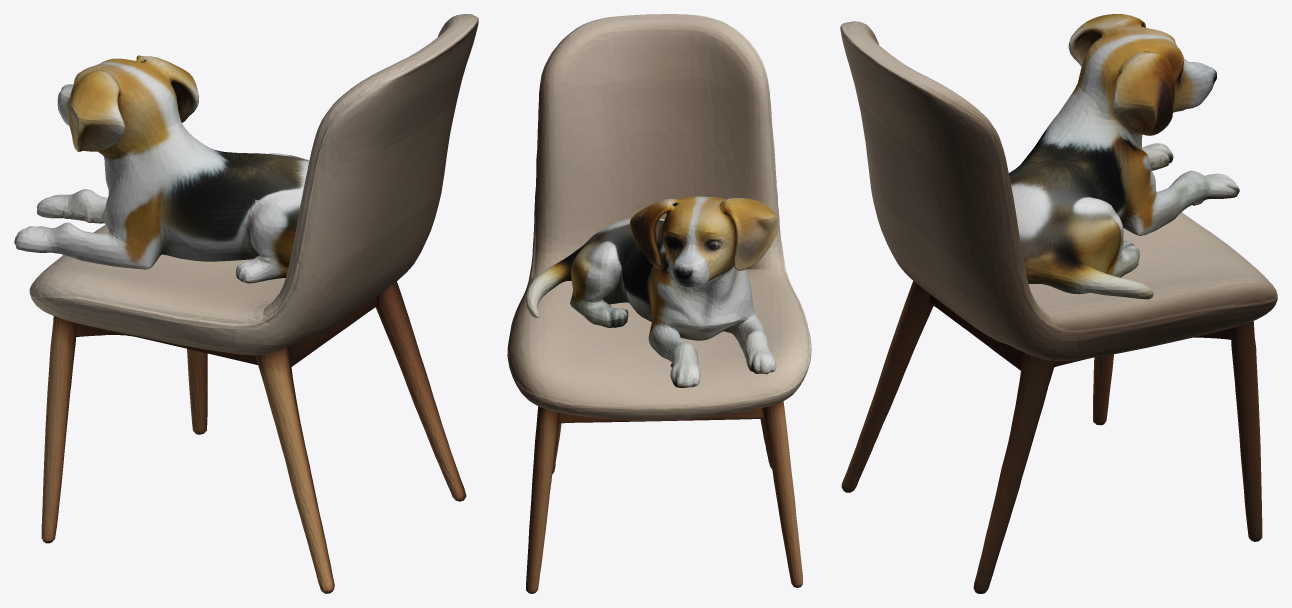
The picture shows the model from 3 angles, left to right: view 1: azimuth 30°, elevation 25°; view 2: azimuth 150°, elevation 25°; view 3: azimuth 270°, elevation 25°; orthographic projection. The views are drawn at different scales.
Parts seen in each view (by area): view 1: mesh_1; view 2: mesh_1; view 3: mesh_1.
Boxes of the visible parts, left/top/right/bottom form: mesh_1: left=14, top=14, right=478, bottom=593; mesh_1: left=507, top=14, right=811, bottom=593; mesh_1: left=840, top=14, right=1277, bottom=593.
Size of the model in its own units: 4.28 by 5.82 by 4.5.
2 materials, 2 textured.
